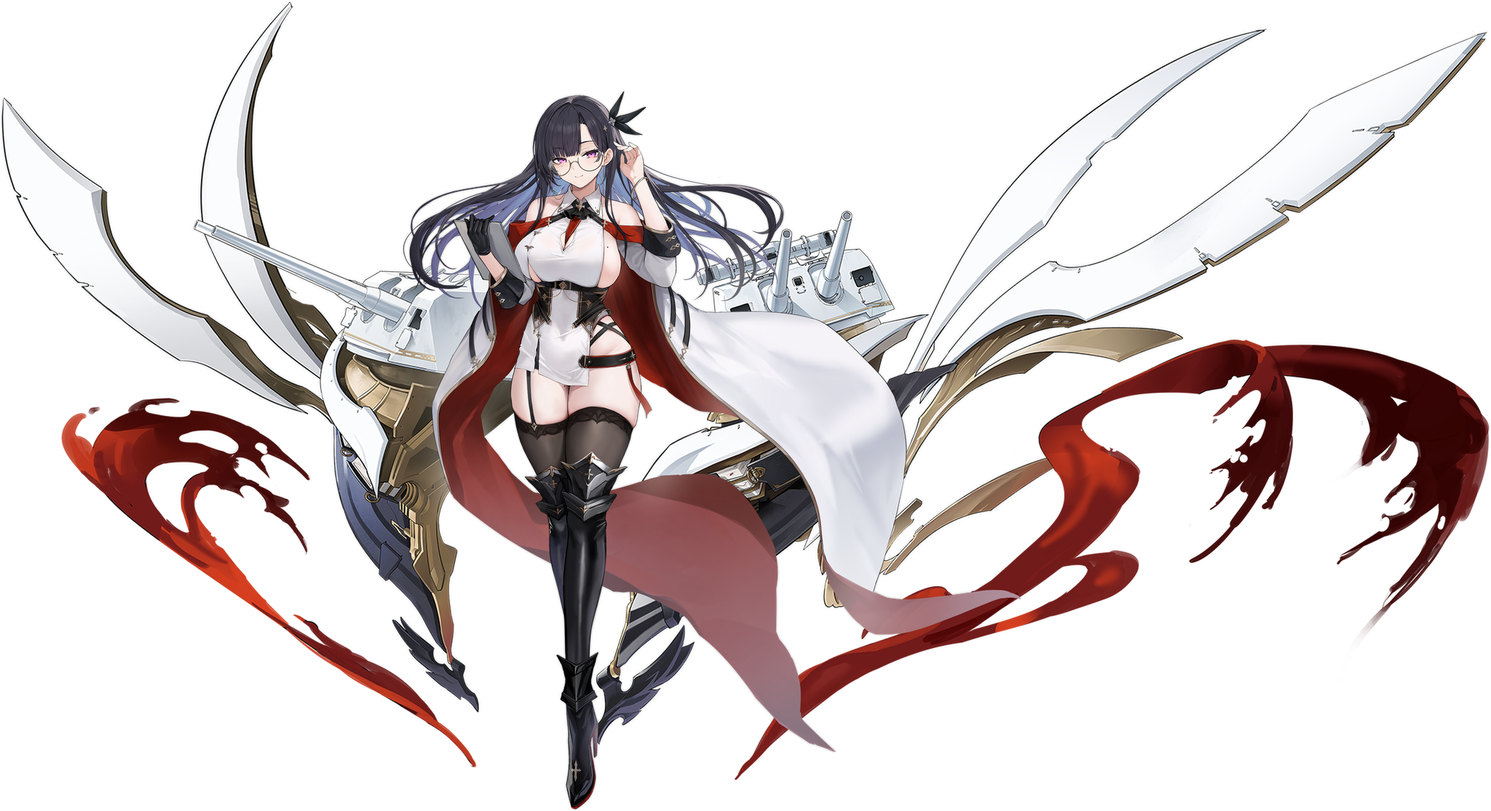person: (383, 50, 1428, 810)
